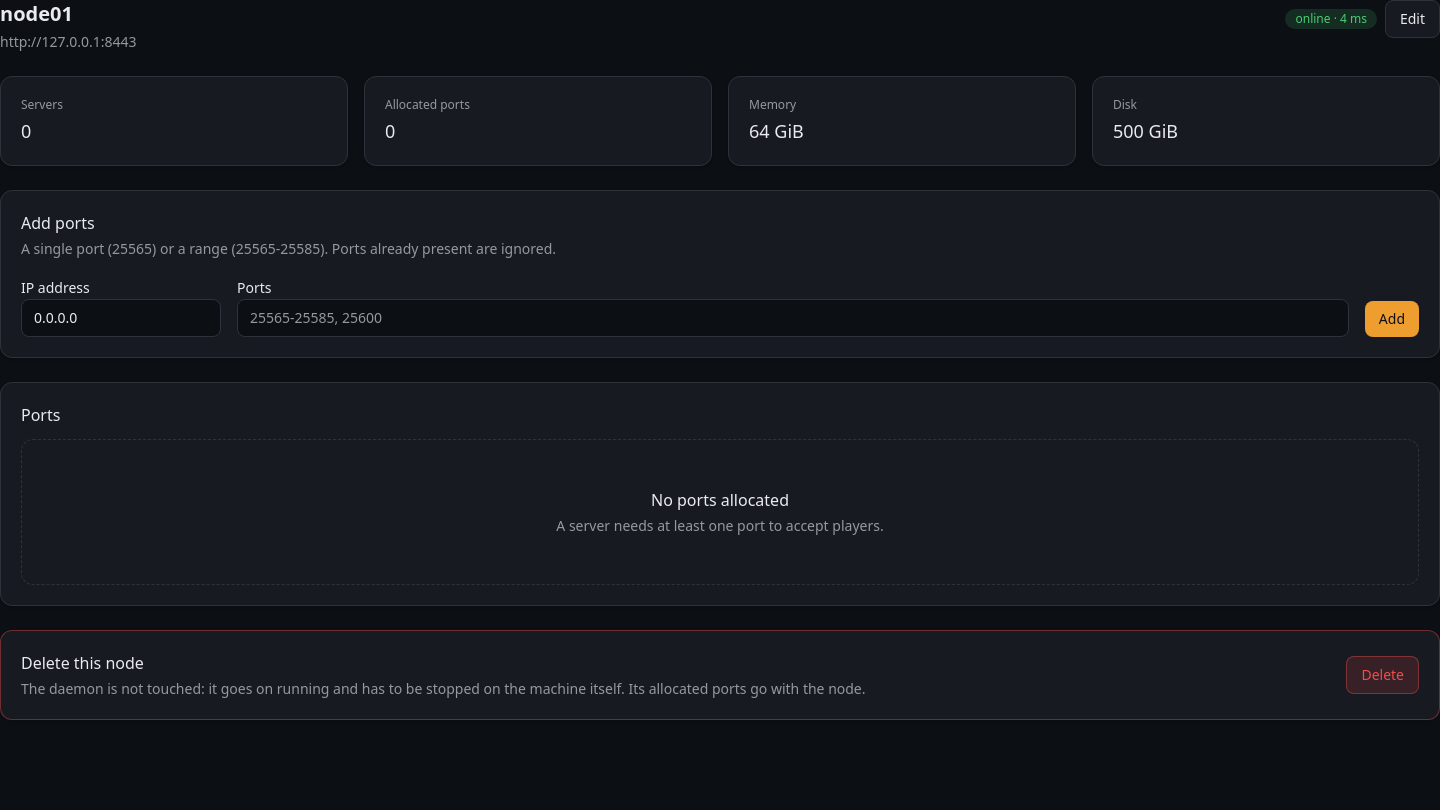
Test: editing a node › opens on the values the node already has
Click the button "Edit" at (1412, 19), box [1385,0,1439,38]
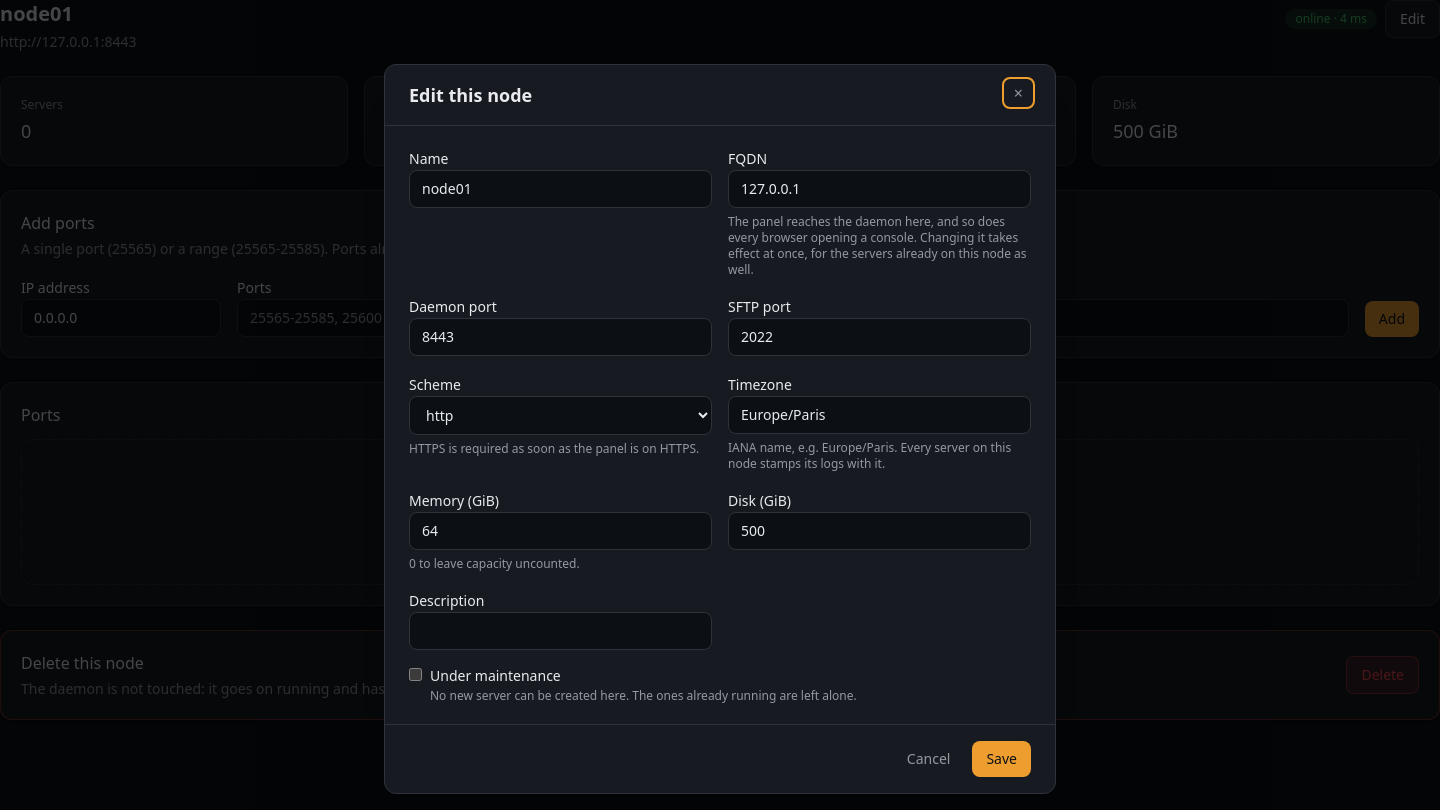
expect the field showing "127.0.0.1" is shown: met, box [728,170,1031,208]
expect the number field showing "64" is shown: met, box [409,512,712,550]
expect the number field showing "500" is shown: met, box [728,512,1031,550]
